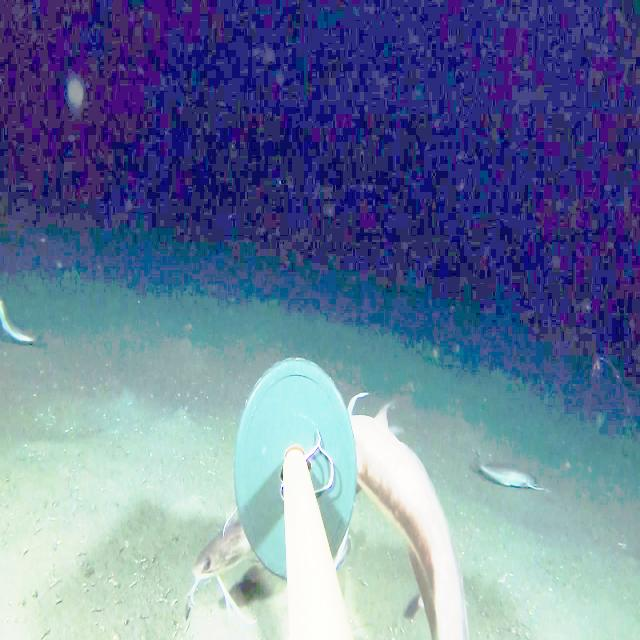fish: (346, 378, 479, 639), (472, 435, 548, 504), (184, 523, 240, 605), (0, 284, 44, 353)
pole: (231, 360, 353, 531)
